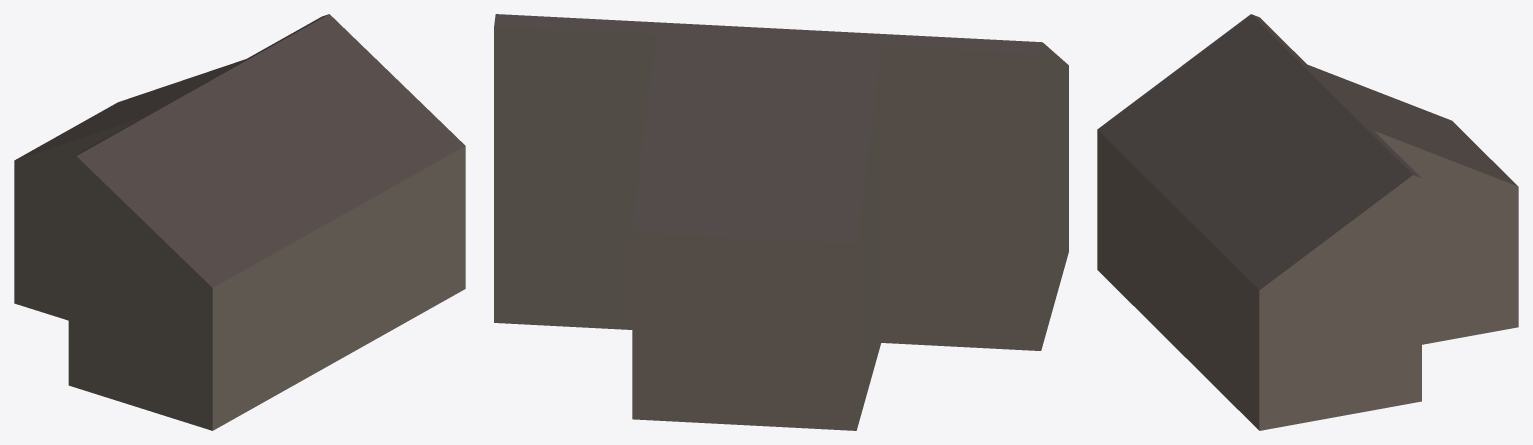
The picture shows the model from 3 angles, left to right: view 1: azimuth 30°, elevation 25°; view 2: azimuth 150°, elevation 25°; view 3: azimuth 270°, elevation 25°; orthographic projection. The views are drawn at different scales.
Visible parts, largest first — view 1: HP-w859082452; view 2: HP-w859082452; view 3: HP-w859082452.
Boxes of the visible parts, x1,y1,x2,y2 form: HP-w859082452: [14, 14, 465, 430]; HP-w859082452: [494, 14, 1068, 430]; HP-w859082452: [1097, 14, 1518, 430].
Size of the model in its own units: 26.16 by 14.6 by 24.44.
